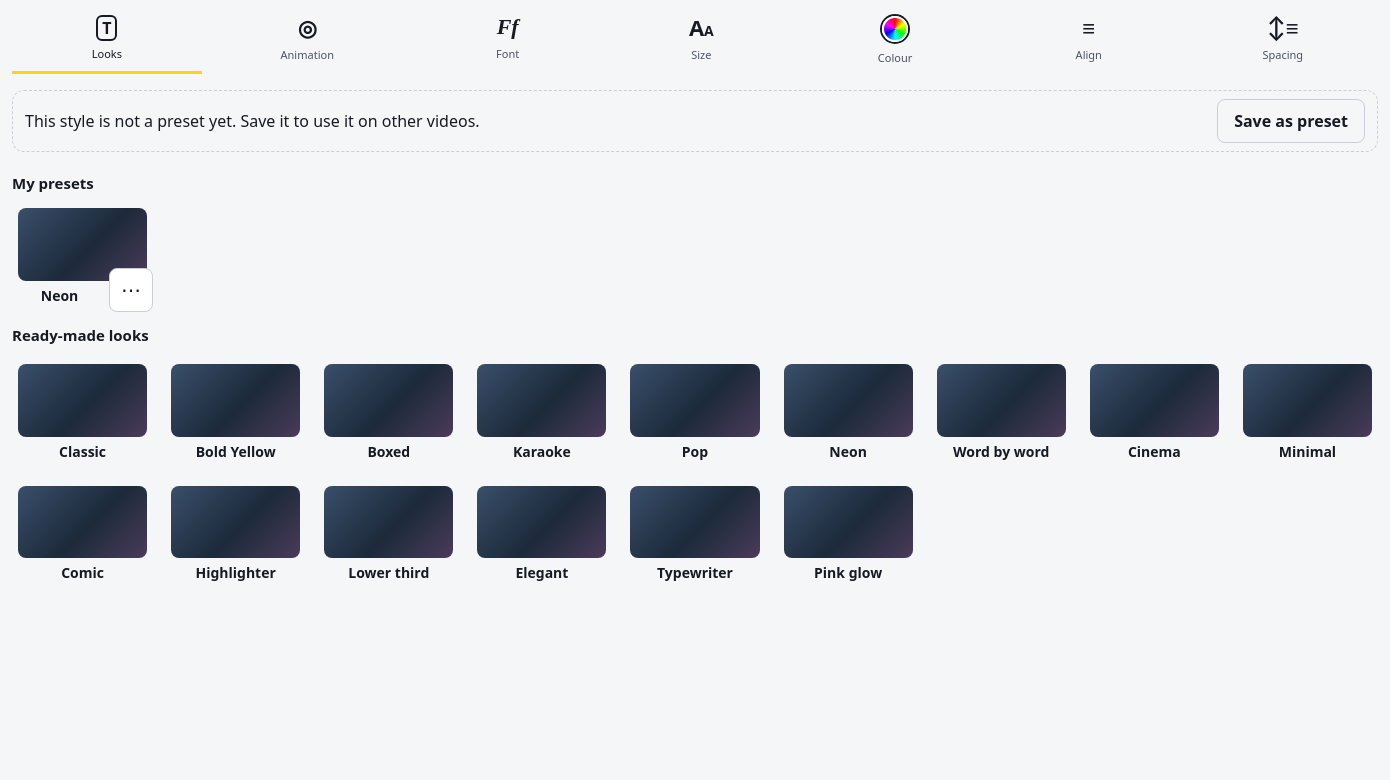
Presets › refuses a name that is already used
Click the button "Save as preset".
click(1291, 120)  # box [1217,98,1365,142]
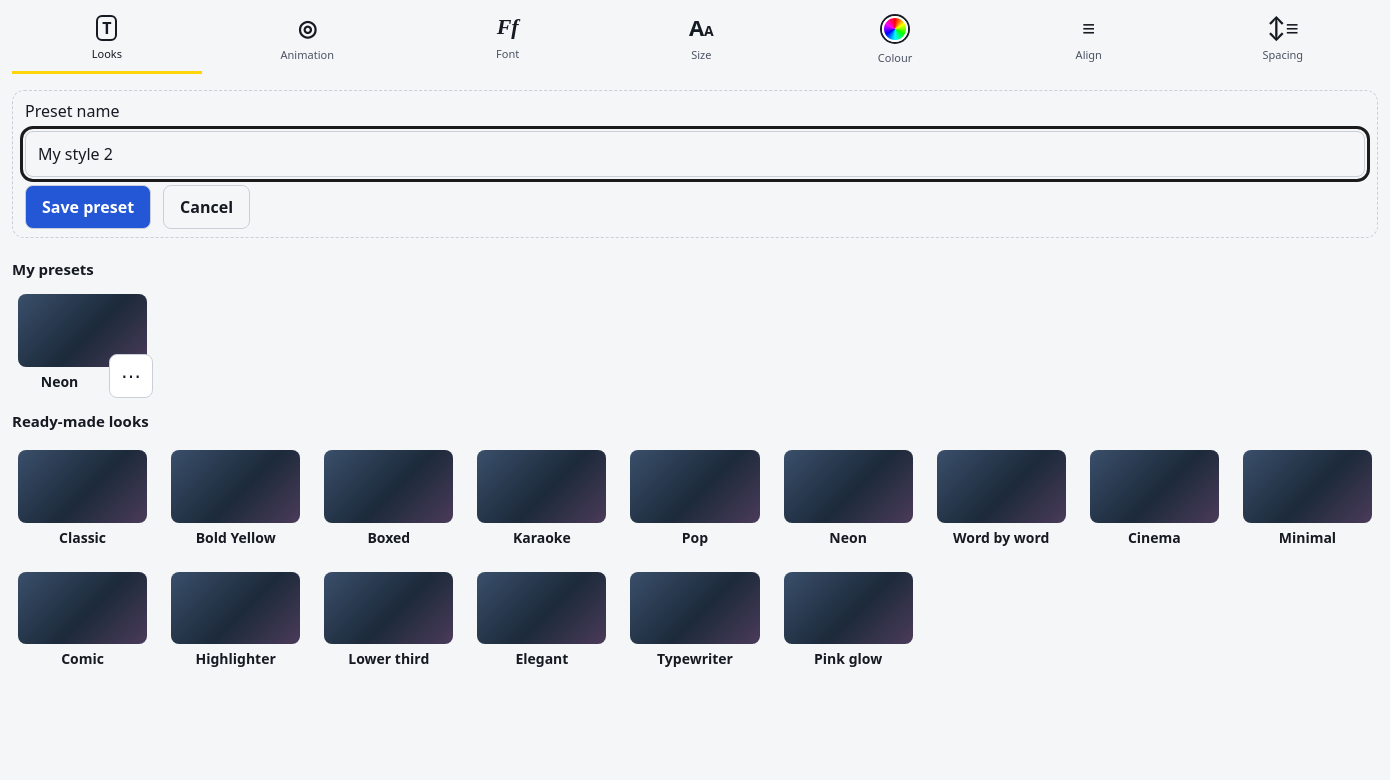
Replace the text in the field labelled "Preset name" with "neon" at (695, 154), box [25,130,1365,176]
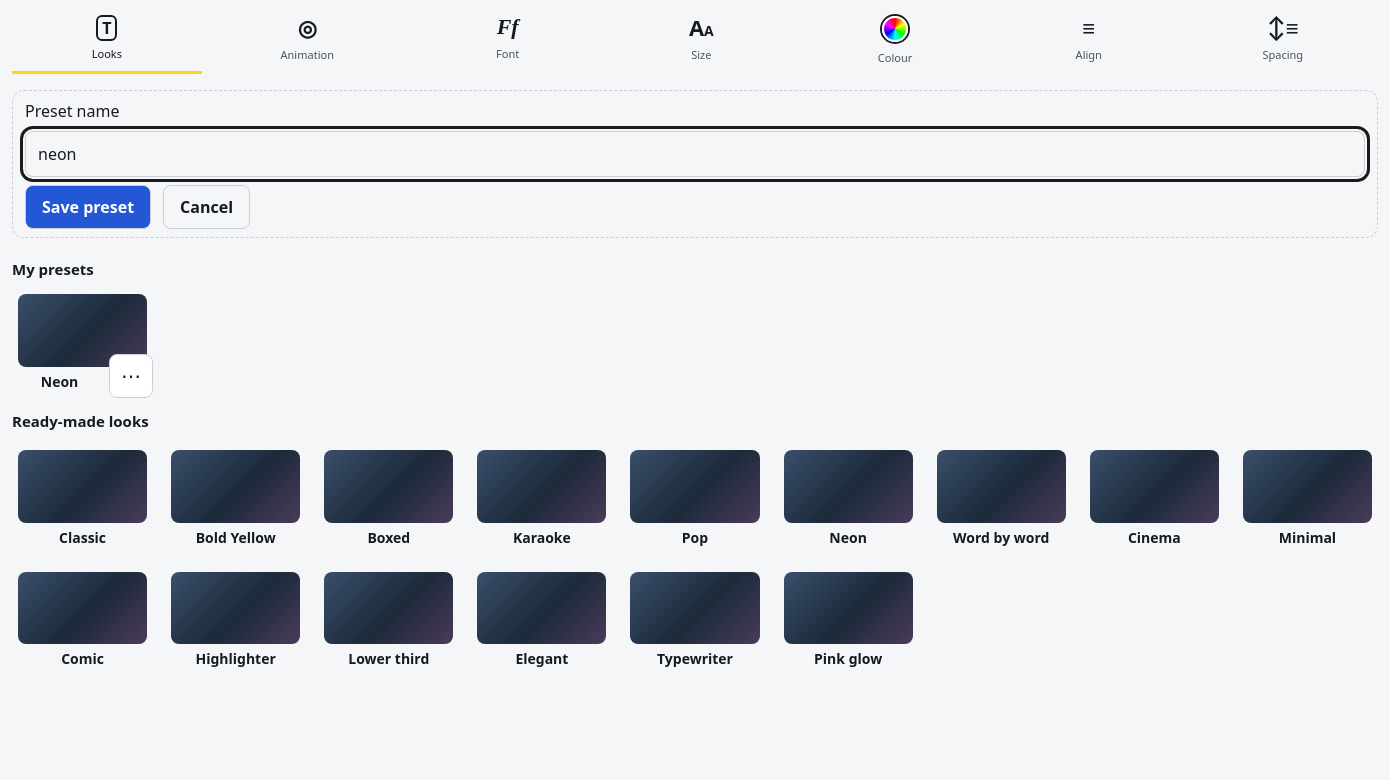
Click the button "Save preset".
click(88, 206)  # box [25,184,151,228]
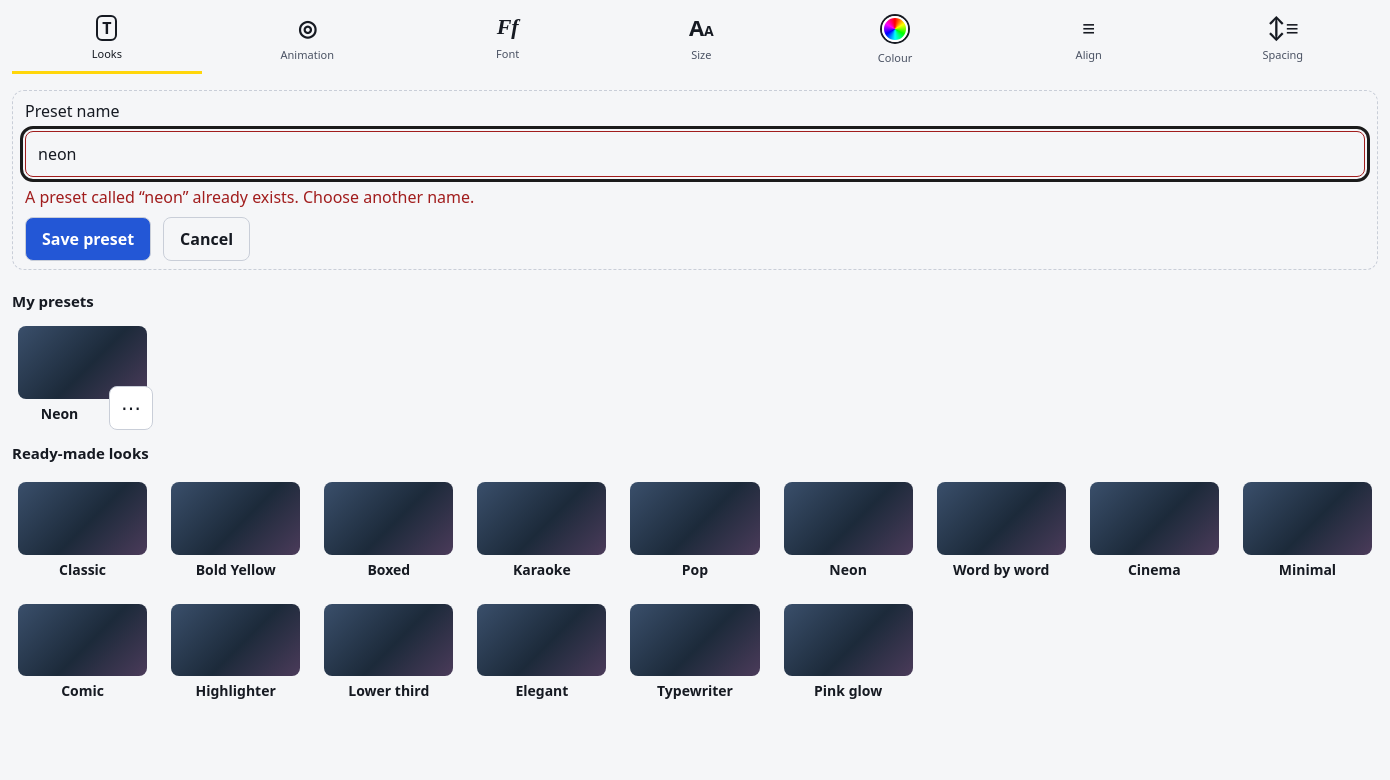
Check: the message shows "already exists", box [25,186,474,208]
